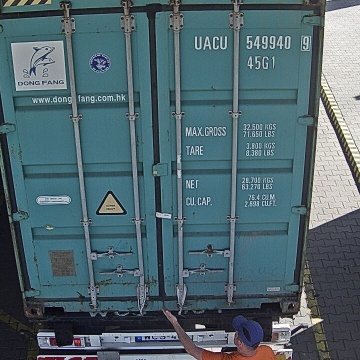serial_id: (195, 35, 310, 49)
